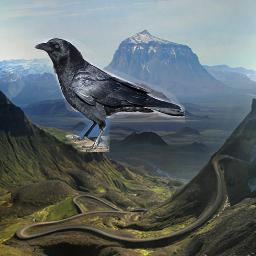Crow: (34, 38, 185, 152)
